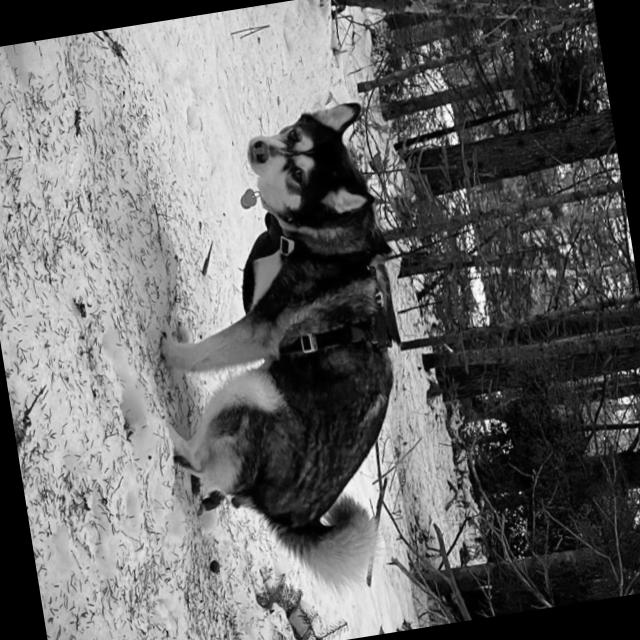squatting: (110, 90, 448, 620)
